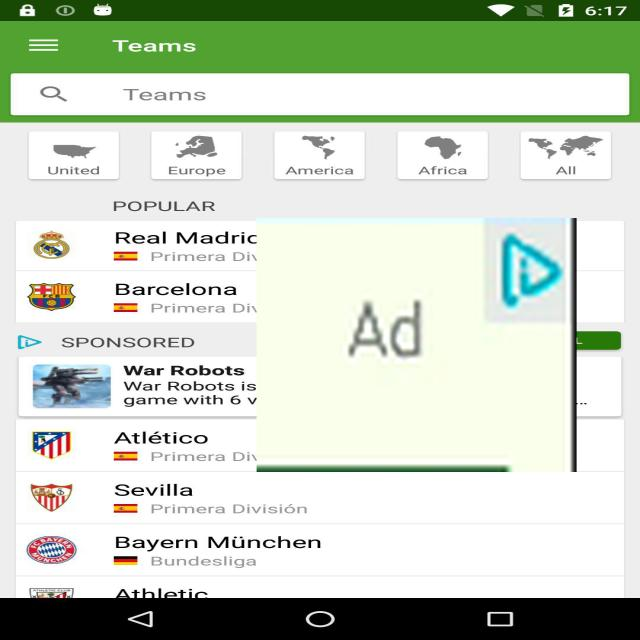sneaking: (256, 218, 576, 472)
